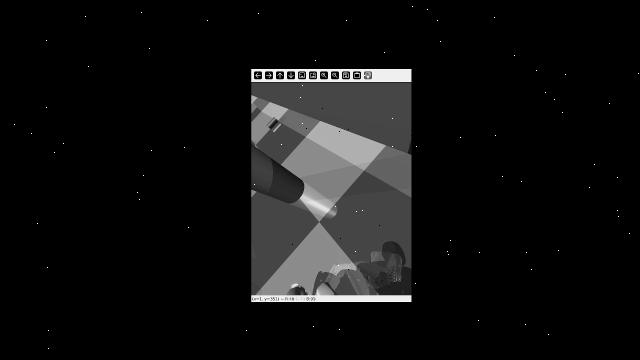cilindro: (249, 140, 309, 204), (259, 116, 285, 130)
